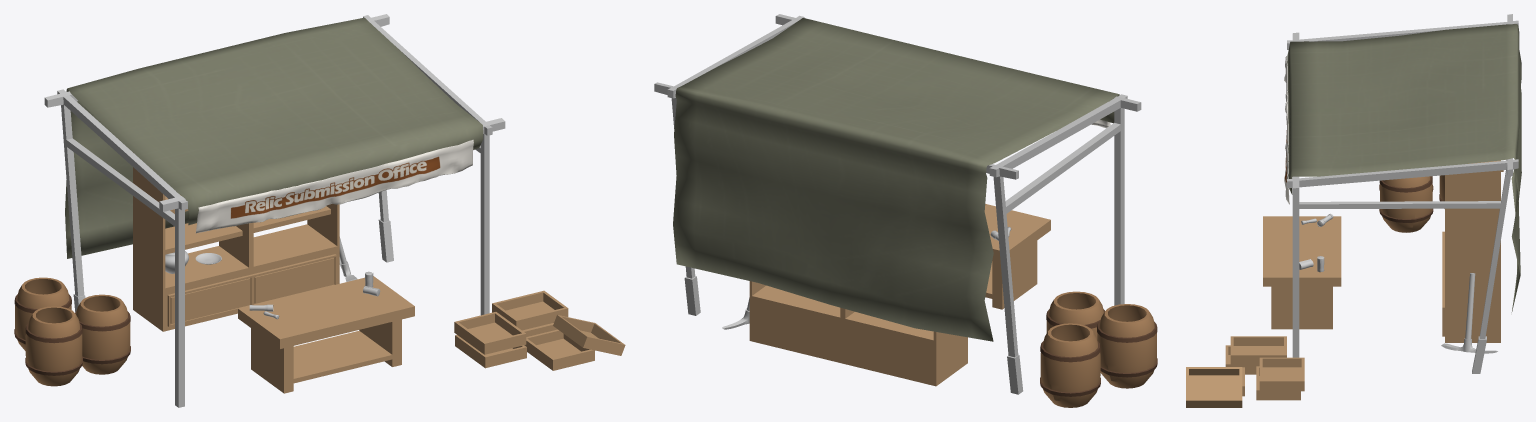
File: TradingTent.fbx
The picture shows the model from 3 angles, left to right: view 1: azimuth 30°, elevation 25°; view 2: azimuth 150°, elevation 25°; view 3: azimuth 270°, elevation 25°; orthographic projection. The views are drawn at different scales.
Parts seen in each view (by area): view 1: TradingTent; view 2: TradingTent; view 3: TradingTent.
Part boxes in pixels (<box>): TradingTent: <box>14,14,625,407</box>; TradingTent: <box>654,14,1157,407</box>; TradingTent: <box>1186,14,1521,407</box>.
Bounding box in the file's own units: 8.32 × 5.43 × 3.85.
